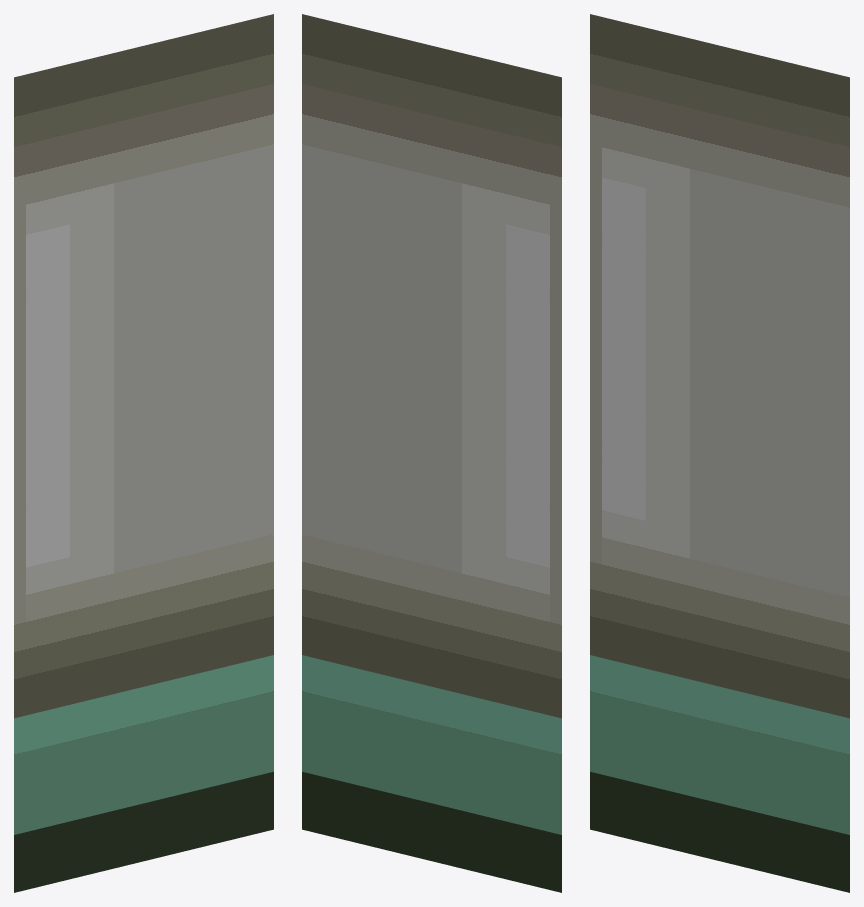
3 renders of one model, left to right at view 1: azimuth 30°, elevation 25°; view 2: azimuth 150°, elevation 25°; view 3: azimuth 330°, elevation 25°, orthographic.
Size of the model in its own units: 1 by 3 by 0.
1 material, 1 textured.
